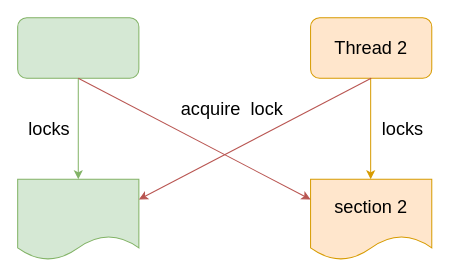
The diagram is 449 pixels wide and 278 high, and some of its shapes have lost their labels. The shapes that lost their labels are listed below. From the top down, each one's centre as x and y in pixels, then its label:
At (x=78, y=47): "Thread 1".
At (x=78, y=219): "section 1".
